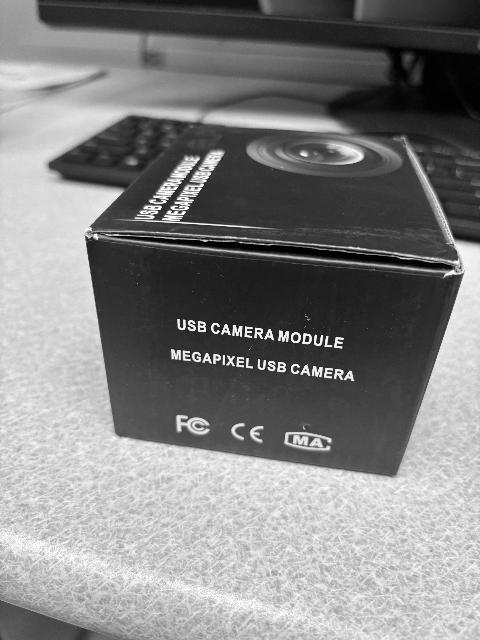CameraBox2: (84, 123, 464, 480)
